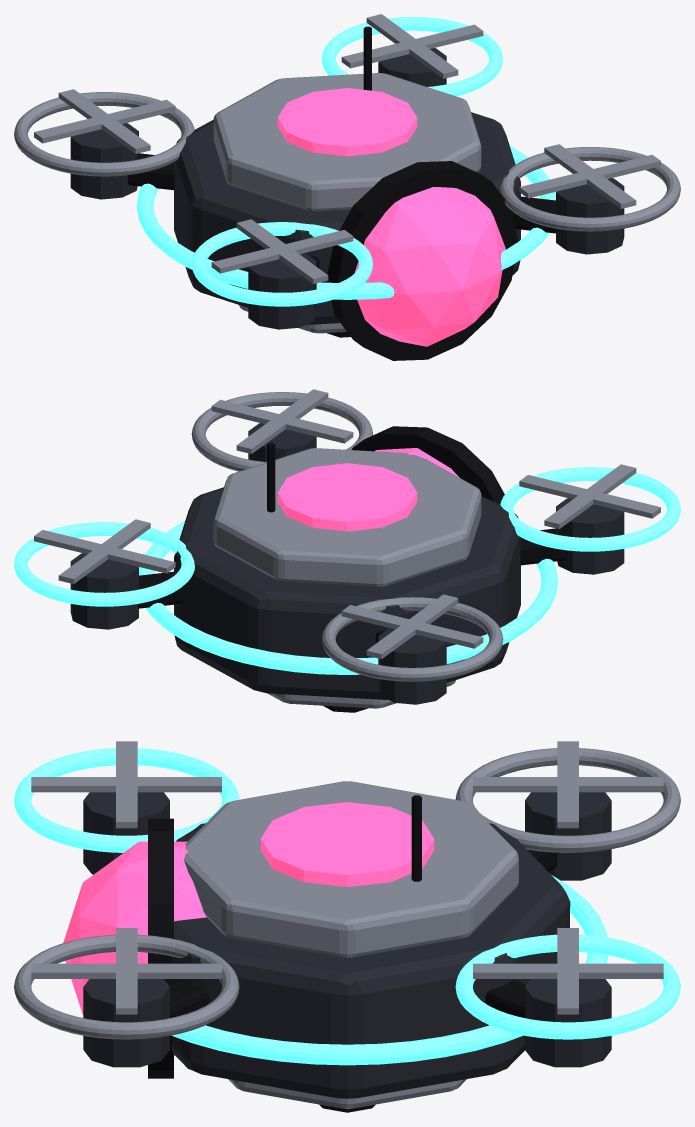
File: drone.glb
The picture shows the model from 3 angles, top to bottom: view 1: azimuth 30°, elevation 25°; view 2: azimuth 150°, elevation 25°; view 3: azimuth 270°, elevation 25°; orthographic projection. The views are drawn at different scales.
Visible parts, largest first — view 1: DroneBody, Rotor3, Rotor1, Rotor2, Rotor0; view 2: DroneBody, Rotor3, Rotor1, Rotor0, Rotor2; view 3: DroneBody, Rotor1, Rotor2, Rotor0, Rotor3.
Part boxes in pixels (bbox=[...]): DroneBody: bbox=[14, 16, 680, 360]; Rotor3: bbox=[519, 144, 660, 208]; Rotor1: bbox=[34, 89, 175, 153]; Rotor2: bbox=[211, 219, 353, 283]; Rotor0: bbox=[341, 14, 483, 78]; DroneBody: bbox=[14, 392, 680, 712]; Rotor3: bbox=[211, 389, 353, 453]; Rotor1: bbox=[341, 594, 483, 659]; Rotor0: bbox=[34, 519, 175, 583]; Rotor2: bbox=[519, 464, 660, 529]; DroneBody: bbox=[14, 748, 680, 1112]; Rotor1: bbox=[473, 741, 663, 828]; Rotor2: bbox=[31, 741, 221, 828]; Rotor0: bbox=[473, 928, 663, 1014]; Rotor3: bbox=[31, 928, 221, 1014].
Bounding box in the file's own units: 0.7691 × 0.42 × 0.7691.
